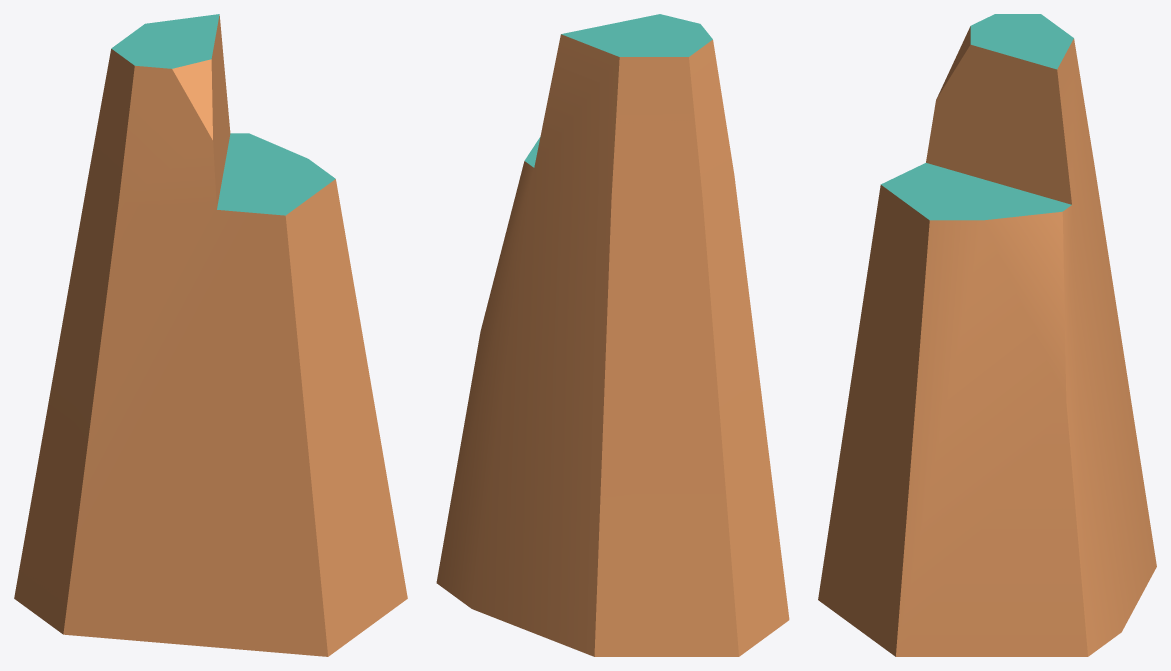
The model's file is rock_tall9.fbx.
The picture shows the model from 3 angles, left to right: view 1: azimuth 30°, elevation 25°; view 2: azimuth 150°, elevation 25°; view 3: azimuth 270°, elevation 25°; orthographic projection. The views are drawn at different scales.
Visible parts, largest first — view 1: rock_tall9; view 2: rock_tall9; view 3: rock_tall9.
Boxes of the visible parts, <box> form: rock_tall9: <box>14,14,407,656</box>; rock_tall9: <box>436,14,789,656</box>; rock_tall9: <box>818,14,1156,656</box>.
Size of the model in its own units: 4.56 by 8.12 by 4.64.
